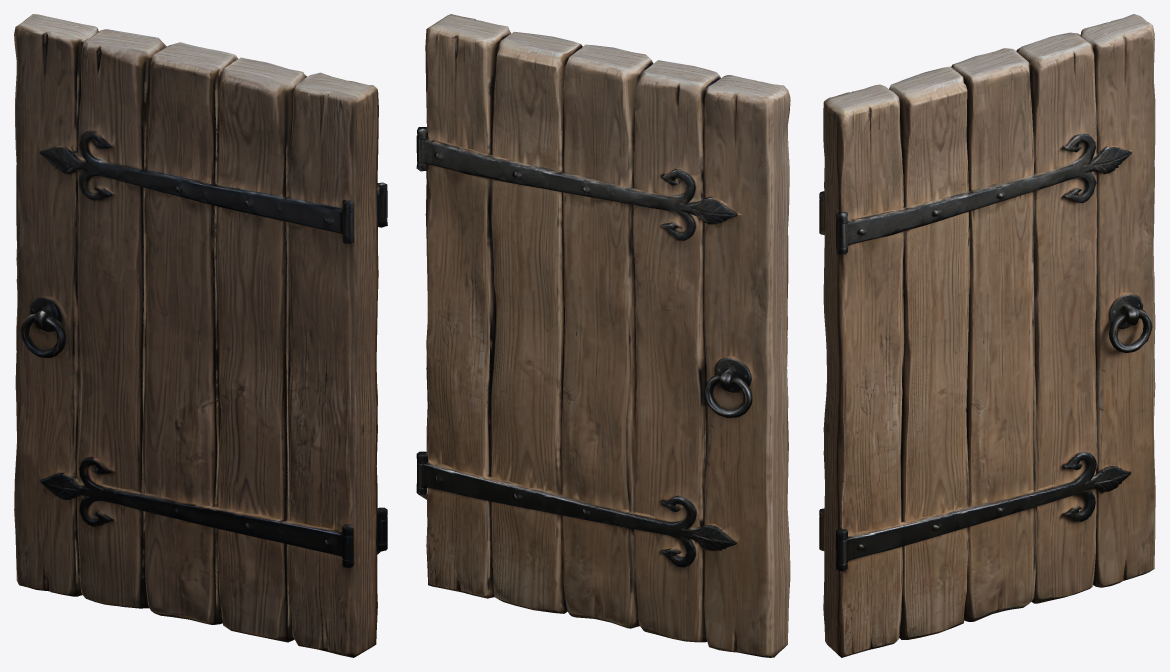
The picture shows the model from 3 angles, left to right: view 1: azimuth 30°, elevation 25°; view 2: azimuth 210°, elevation 25°; view 3: azimuth 270°, elevation 25°; orthographic projection. The views are drawn at different scales.
Parts seen in each view (by area): view 1: tripo_node_34cd914a-45c3-4f0b-b5ce-39c40f19bed5; view 2: tripo_node_34cd914a-45c3-4f0b-b5ce-39c40f19bed5; view 3: tripo_node_34cd914a-45c3-4f0b-b5ce-39c40f19bed5.
Boxes of the visible parts, x1,y1,x2,y2 form: tripo_node_34cd914a-45c3-4f0b-b5ce-39c40f19bed5: (14, 14, 387, 657); tripo_node_34cd914a-45c3-4f0b-b5ce-39c40f19bed5: (416, 14, 790, 657); tripo_node_34cd914a-45c3-4f0b-b5ce-39c40f19bed5: (819, 14, 1155, 657).
Bounding box in the file's own units: 0.408 × 0.9784 × 0.5439.
1 material, 1 textured.
